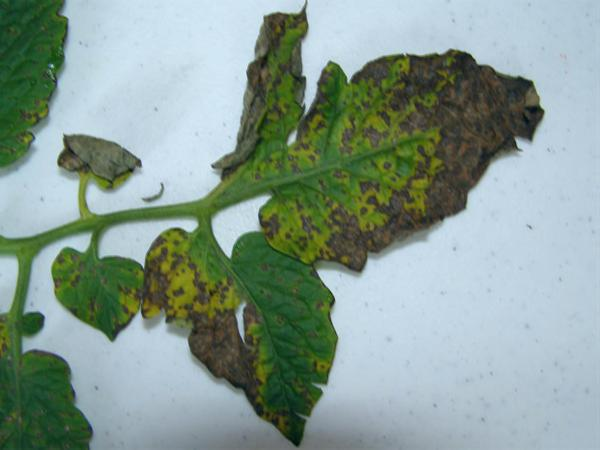Tomato Septoria leaf spot: (255, 50, 561, 271), (129, 218, 348, 450), (197, 7, 320, 181), (0, 3, 79, 196), (0, 303, 99, 449), (54, 241, 152, 349)
